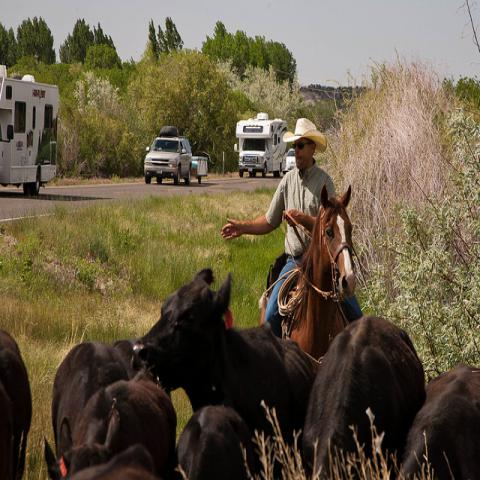car: (144, 136, 192, 185), (283, 148, 296, 174)
truck: (0, 62, 62, 198), (233, 112, 287, 179)
